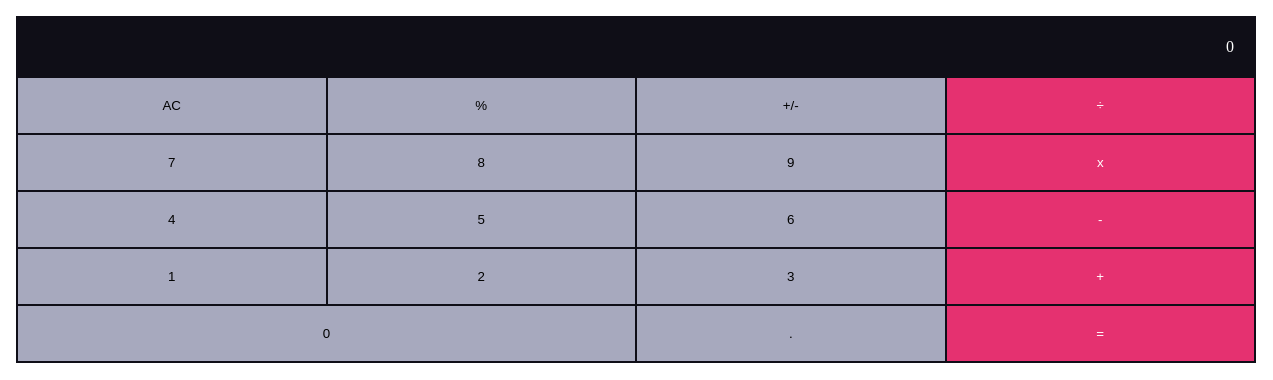
Testing user interactions › Testing the add operation
Click the button "7" at (172, 162), box [17, 134, 326, 191]
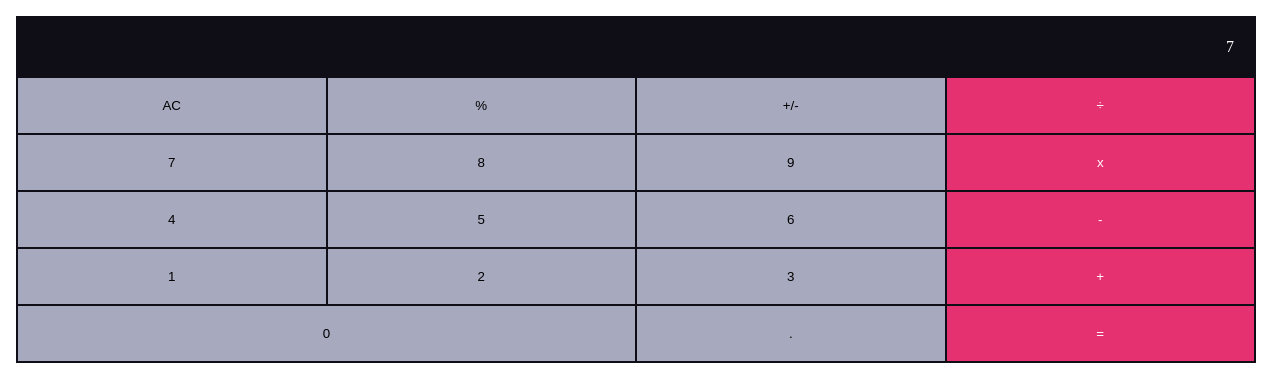
Click the button "+" at (1100, 276), box [946, 248, 1255, 305]
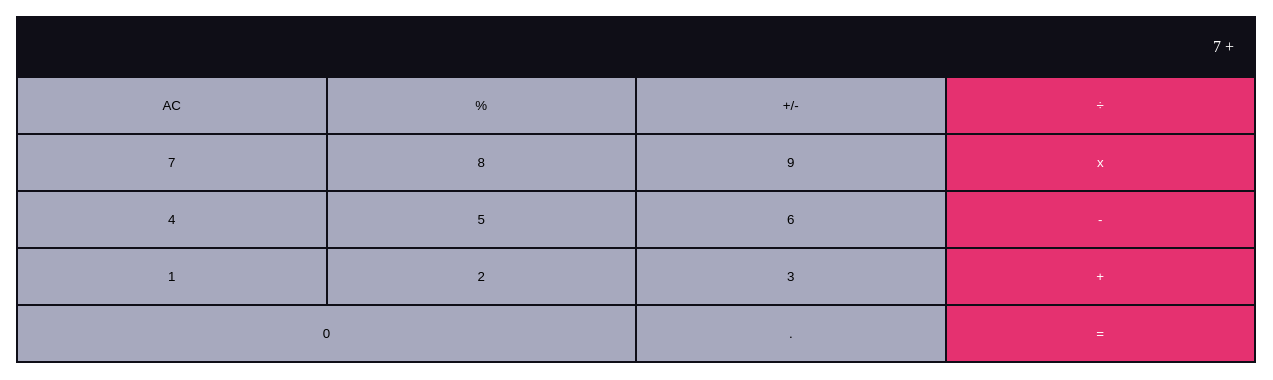
Click the button "7" at (172, 162), box [17, 134, 326, 191]
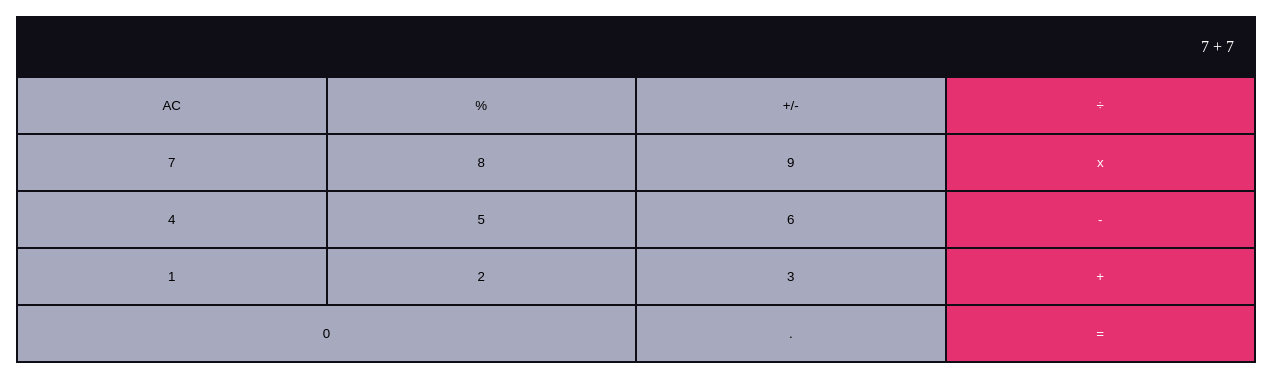
Click the button "=" at (1100, 334), box [946, 305, 1255, 362]
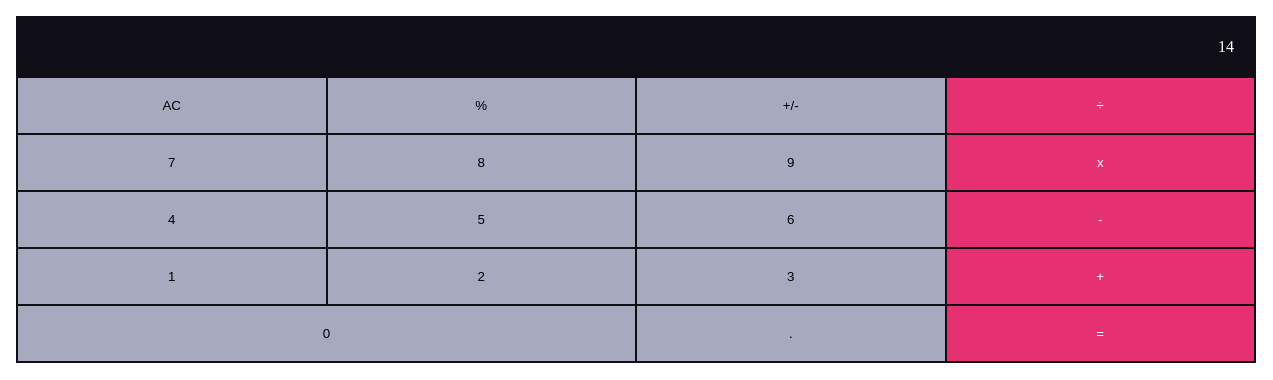
Now the text with test id "calcScreen" reads "14", box [1218, 38, 1234, 55]
